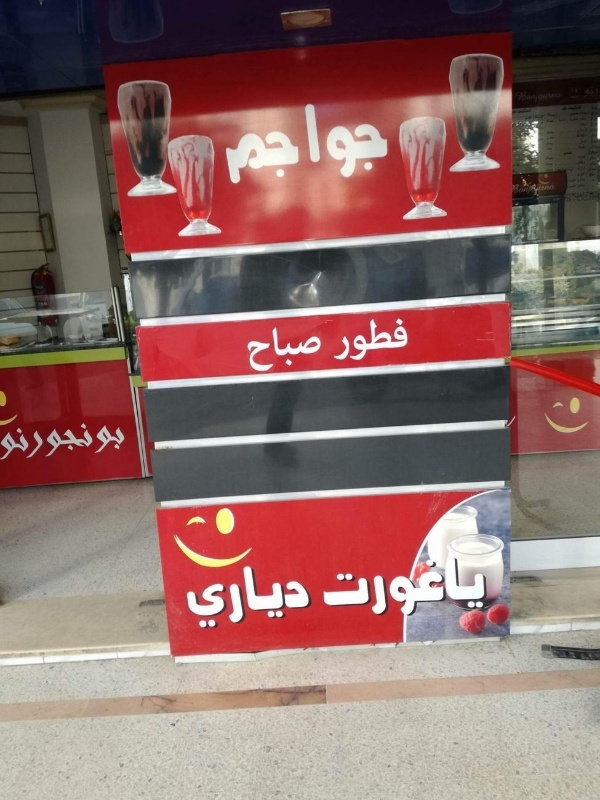text: (225, 102, 240, 186), (241, 102, 256, 186), (257, 102, 272, 186), (273, 102, 288, 186), (289, 102, 304, 186), (305, 102, 320, 186), (321, 102, 336, 186), (337, 102, 352, 186), (353, 102, 368, 186), (369, 102, 384, 186), (193, 565, 208, 630), (209, 565, 224, 630), (225, 565, 240, 630), (241, 565, 256, 630), (257, 565, 272, 630), (273, 565, 288, 630), (289, 565, 304, 630), (337, 556, 352, 617), (353, 556, 368, 617), (369, 556, 384, 617), (385, 556, 400, 617), (401, 556, 416, 617), (417, 556, 432, 617), (433, 556, 448, 617), (449, 556, 464, 617), (465, 556, 480, 617), (322, 556, 336, 617), (257, 327, 272, 373), (273, 327, 288, 373), (289, 327, 304, 373), (305, 327, 320, 373), (337, 317, 352, 363), (353, 317, 368, 363), (369, 317, 384, 363), (385, 317, 400, 363), (1, 423, 16, 464), (17, 423, 32, 464), (33, 423, 48, 464), (49, 423, 64, 464), (65, 423, 80, 464), (81, 423, 96, 464), (97, 423, 112, 464), (113, 423, 127, 464), (305, 565, 312, 630), (481, 556, 488, 617), (401, 317, 410, 363), (248, 327, 256, 373), (385, 102, 389, 186), (187, 565, 192, 630), (513, 183, 528, 199), (529, 183, 544, 199), (577, 86, 592, 100), (529, 90, 544, 103), (545, 90, 560, 103), (514, 90, 528, 103), (529, 110, 544, 122), (545, 110, 560, 122), (561, 110, 576, 122), (577, 110, 592, 122), (545, 183, 556, 199), (333, 317, 336, 363), (529, 128, 544, 137), (545, 128, 560, 137), (561, 128, 576, 137), (577, 128, 592, 137), (577, 193, 592, 202), (514, 128, 528, 137), (513, 117, 528, 125), (529, 117, 544, 125), (545, 117, 560, 125), (561, 117, 576, 125), (577, 117, 592, 125), (529, 133, 544, 141), (545, 133, 560, 141), (561, 133, 576, 141), (577, 133, 592, 141), (563, 193, 576, 202), (514, 133, 528, 141), (577, 160, 592, 167), (569, 86, 576, 100), (593, 86, 600, 100), (578, 154, 592, 161), (561, 105, 576, 111), (513, 108, 528, 114), (561, 144, 576, 150), (577, 144, 592, 150), (561, 166, 576, 172), (577, 166, 592, 172), (577, 172, 592, 178), (577, 177, 592, 183), (546, 144, 560, 150), (546, 166, 560, 172), (546, 156, 560, 162), (561, 140, 576, 145), (577, 140, 592, 145), (577, 184, 592, 189), (580, 121, 592, 127), (593, 110, 599, 122), (546, 140, 560, 145), (593, 193, 600, 202), (564, 151, 576, 156), (593, 133, 600, 141), (546, 162, 560, 166), (593, 128, 599, 137), (567, 177, 576, 183), (524, 110, 528, 122), (593, 117, 599, 125), (321, 327, 322, 373), (513, 125, 528, 128), (567, 184, 576, 189), (529, 127, 543, 130), (593, 121, 600, 127), (593, 105, 600, 111), (593, 144, 600, 150), (593, 154, 599, 161), (577, 105, 583, 111), (593, 149, 599, 155), (593, 140, 600, 145), (593, 160, 598, 167), (517, 127, 528, 130), (593, 166, 598, 172), (529, 108, 533, 114), (593, 172, 597, 178), (593, 177, 597, 183), (588, 149, 592, 155), (529, 125, 535, 128), (593, 184, 596, 189), (561, 90, 562, 103), (591, 105, 592, 111)
